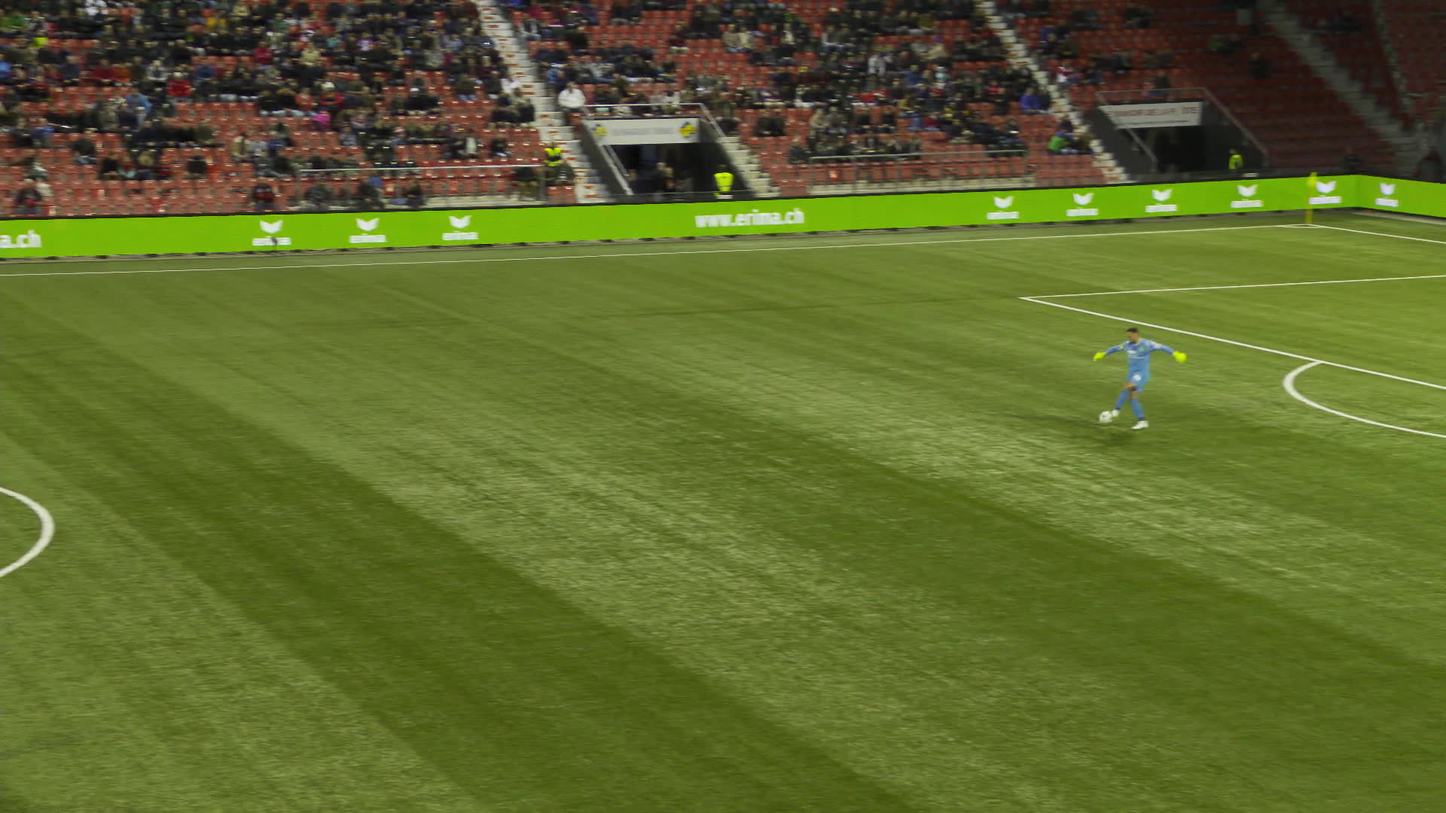ball: (1099, 411, 1110, 422)
player: (1095, 323, 1187, 430)
